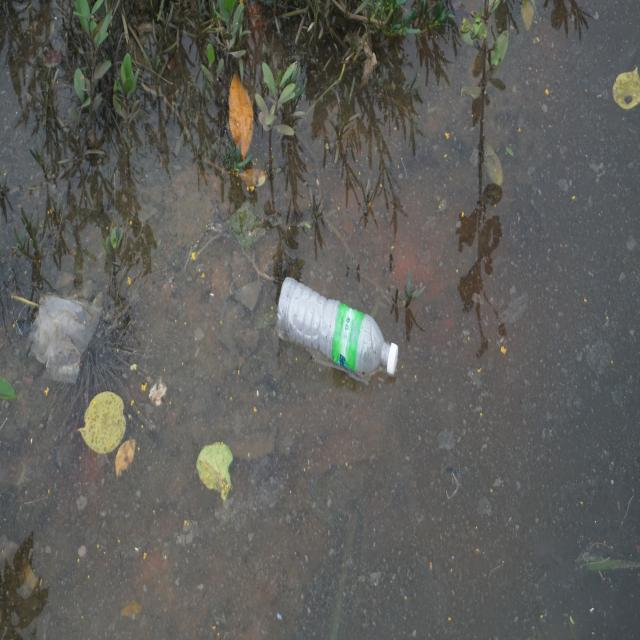Botol Plastik: (276, 273, 405, 398)
Kantong Plastik: (28, 277, 102, 392)
